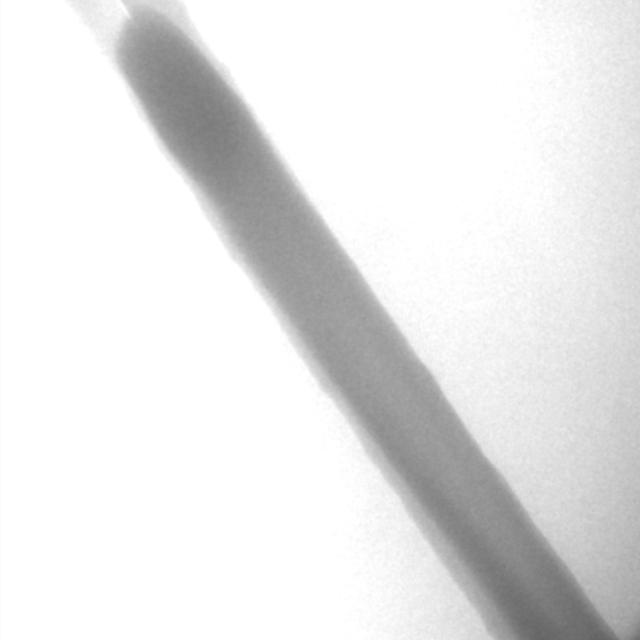broken arc: (115, 2, 131, 16)
